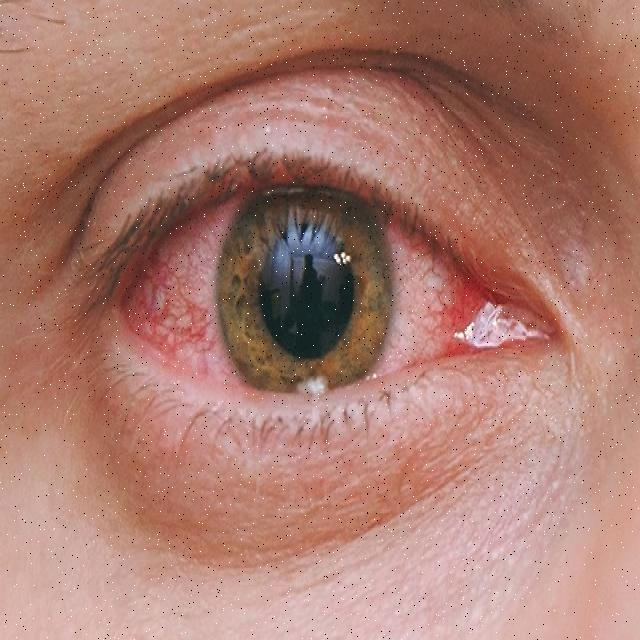Conjunctivitis: (94, 194, 568, 387)
